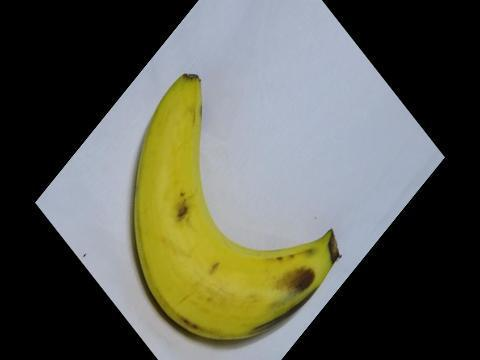freshripe: (101, 63, 352, 356)
